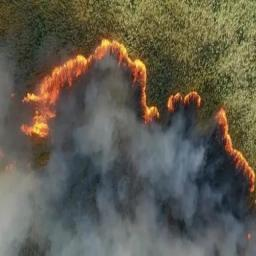Heavy smoke: (5, 55, 246, 256)
Medium fire: (20, 28, 256, 210)
